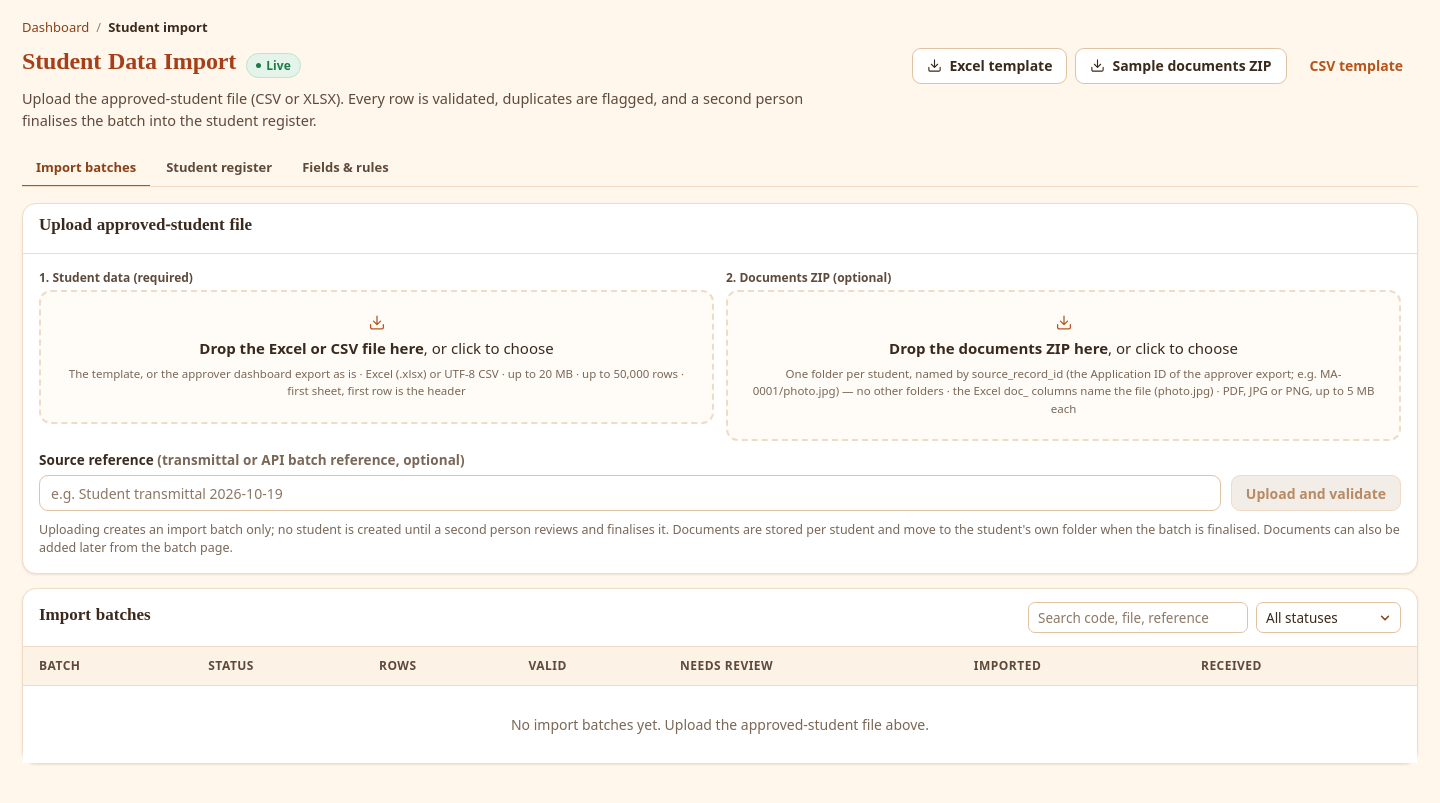
Test: Student Import — Fields & rules › shows when a column may be left out because another stands in for it, and the approver dashboard rules
Click the button "Fields & rules" at (345, 168), box [288,149,403,187]
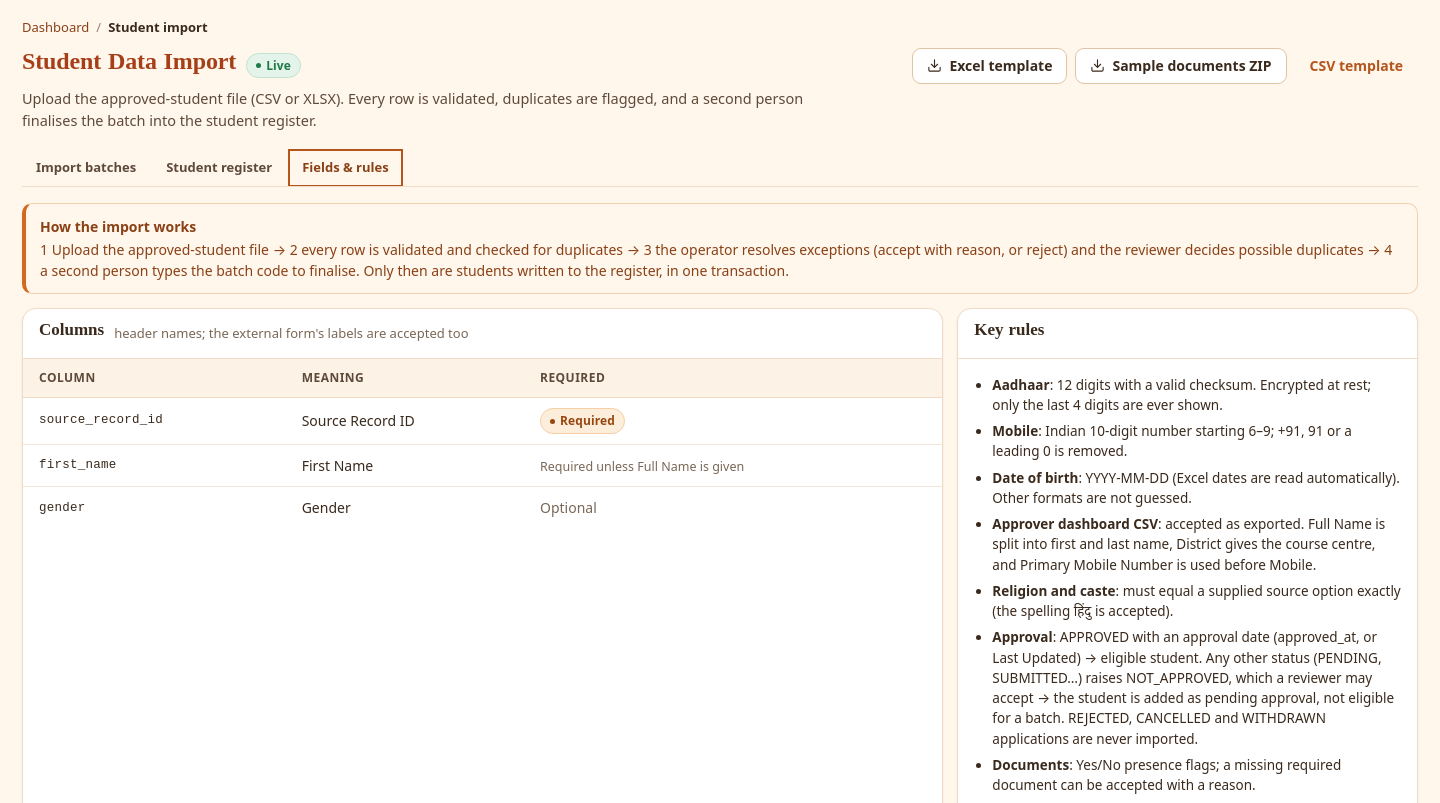
Now the text "Required unless Full Name is given" is shown, box [540,458,744,475]
Now the text "Required" is shown, box [540,408,625,434]
Now the text "Approver dashboard CSV" is shown, box [992,515,1158,533]
